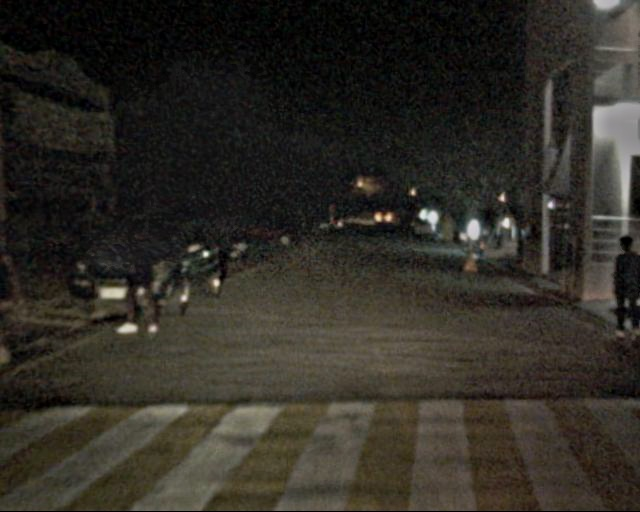person: (118, 220, 165, 335), (598, 237, 640, 349), (2, 230, 38, 352)
